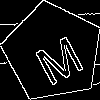M: (28, 27, 86, 87)
